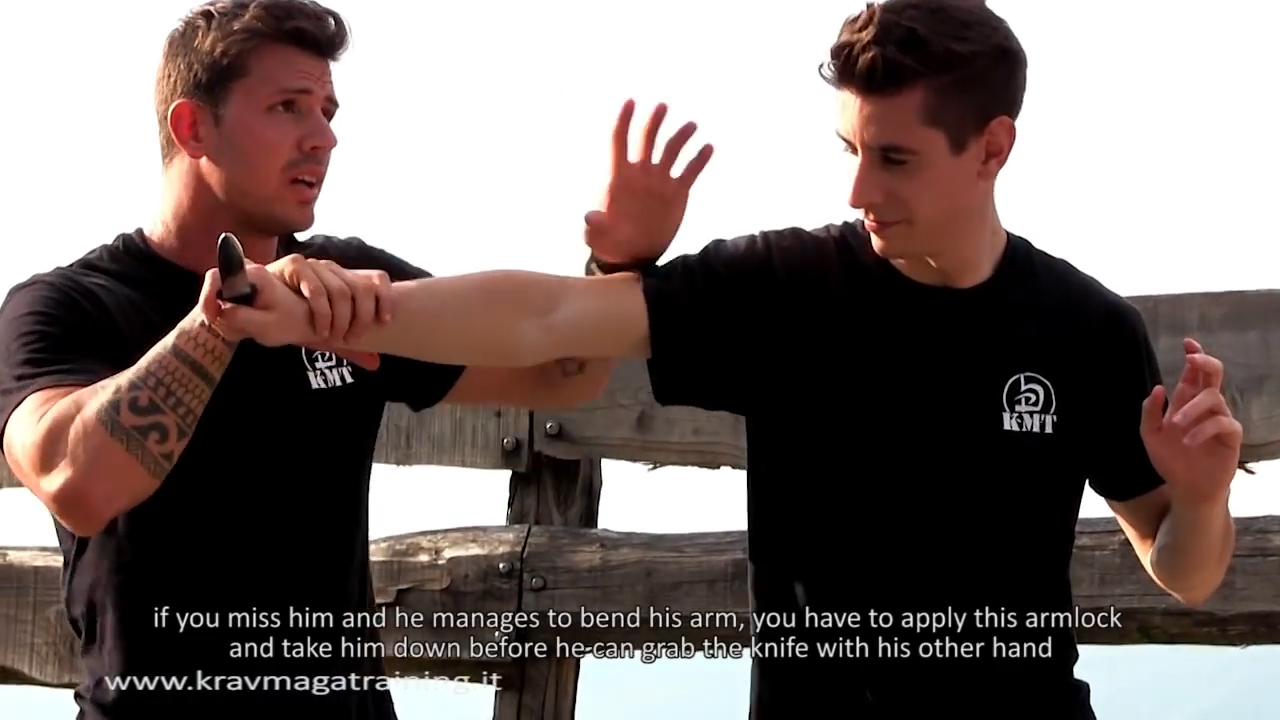knife: (197, 222, 268, 342)
